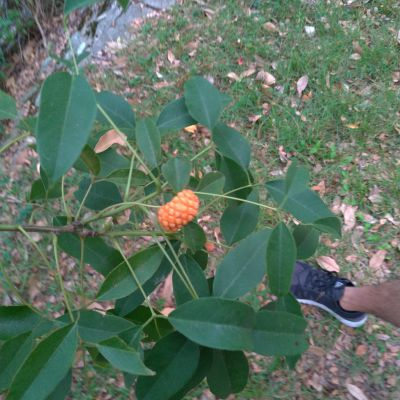eggs: (154, 184, 204, 230)
